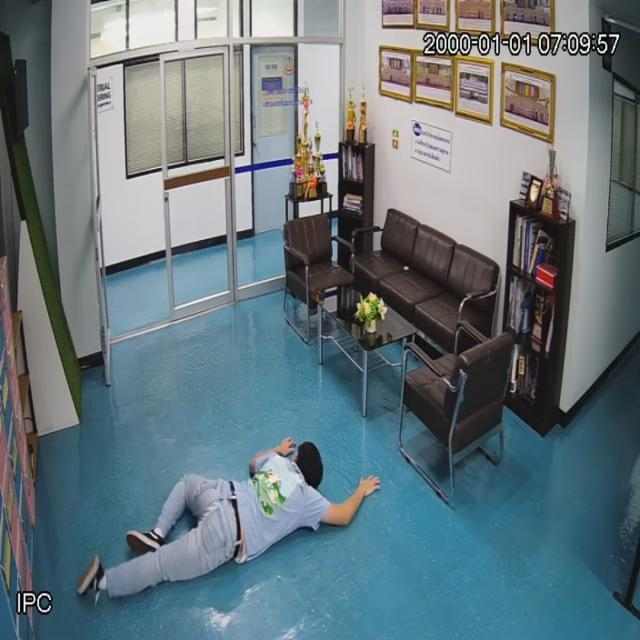fall: (69, 444, 345, 596)
